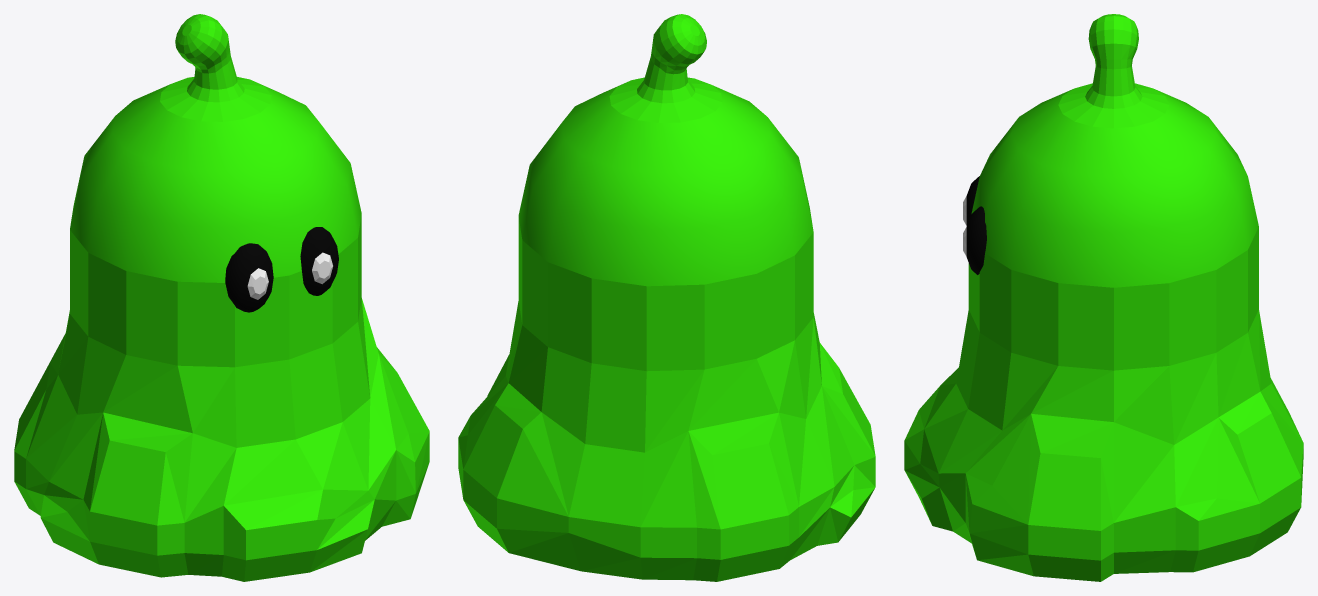
The model's file is Slime_Character.fbx.
The picture shows the model from 3 angles, left to right: view 1: azimuth 30°, elevation 25°; view 2: azimuth 150°, elevation 25°; view 3: azimuth 270°, elevation 25°; orthographic projection. The views are drawn at different scales.
Parts seen in each view (by area): view 1: Body, Eye Right, Eye Left; view 2: Body; view 3: Body, Eye Left.
Part boxes in pixels (x1,y1,x2,y2): Body: (14,14,429,581); Eye Right: (225,243,273,312); Eye Left: (300,227,338,295); Body: (458,14,875,581); Body: (904,14,1303,581); Eye Left: (963,206,986,274).
Bounding box in the file's own units: 56.37 × 72.18 × 54.51.
